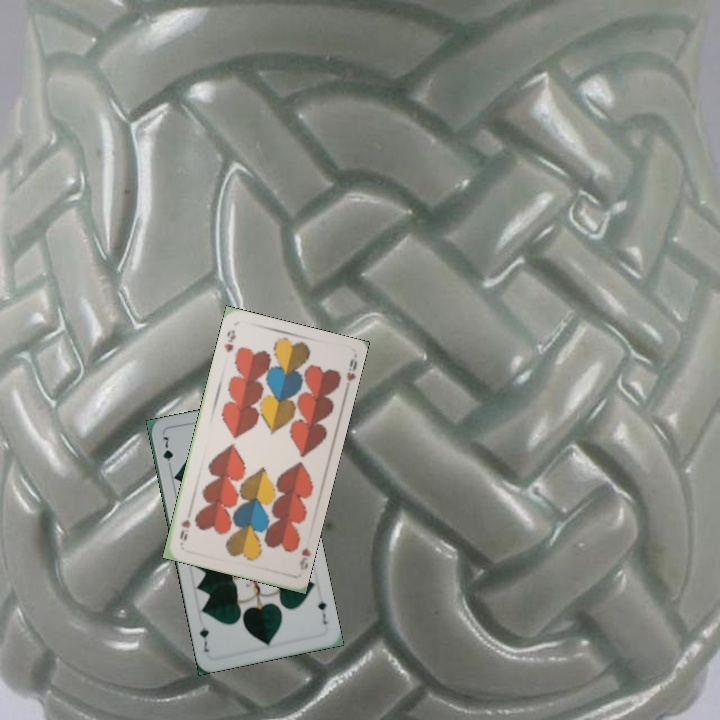G7: (158, 431, 176, 472), (314, 597, 329, 627)
H9: (220, 326, 238, 355), (295, 544, 312, 573)
